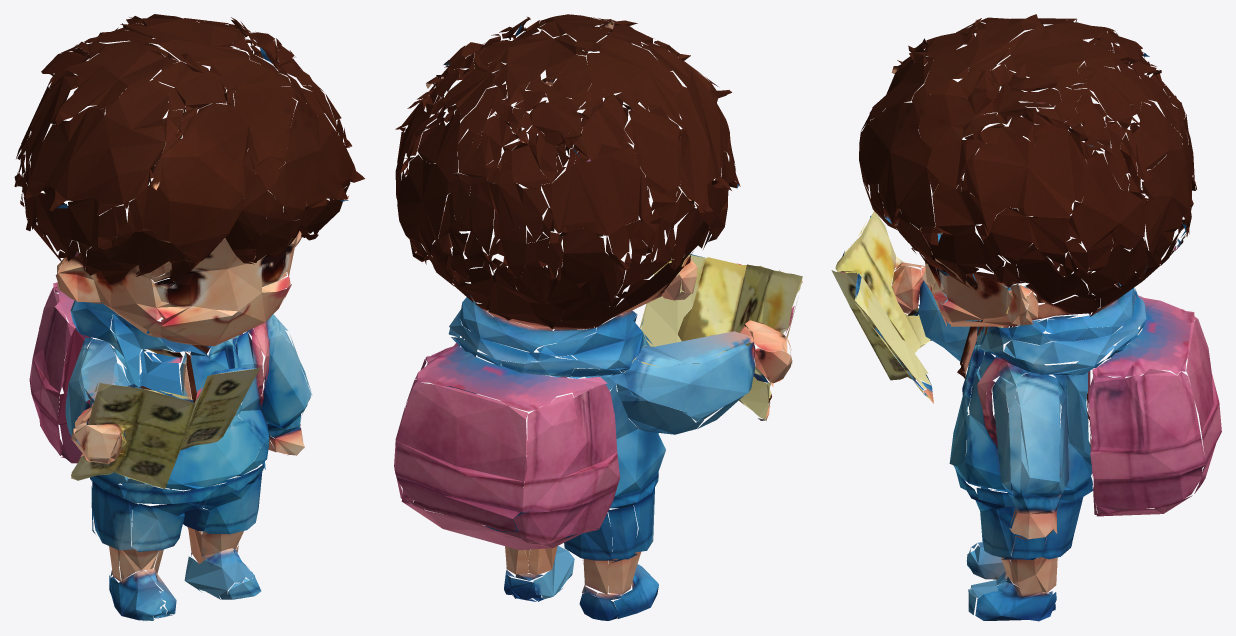
File: avatar3d.glb
3 views of the same model, side by side, from view 1: azimuth 30°, elevation 25°; view 2: azimuth 150°, elevation 25°; view 3: azimuth 270°, elevation 25° (orthographic).
Parts seen in each view (by area): view 1: temp_mesh.ply; view 2: temp_mesh.ply; view 3: temp_mesh.ply.
Part boxes in pixels (x1,y1,x2,y2): temp_mesh.ply: (14, 14, 364, 620); temp_mesh.ply: (394, 14, 802, 620); temp_mesh.ply: (831, 14, 1221, 621).
Size of the model in its own units: 0.588 by 1 by 0.6245.
1 material, 1 textured.
